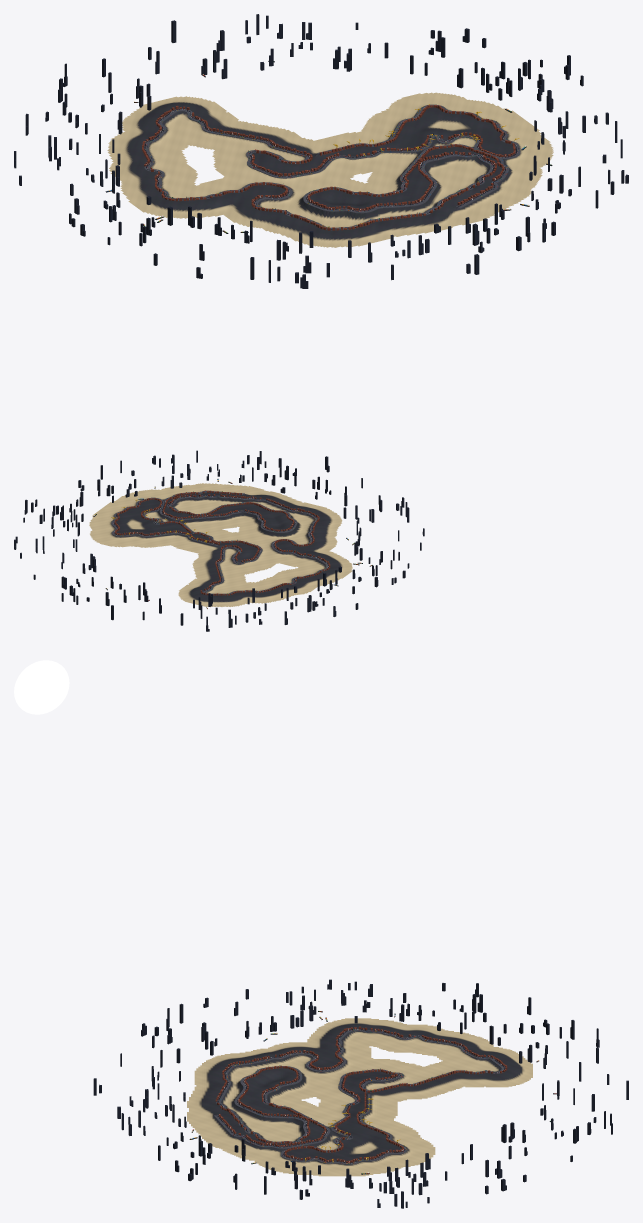
The model's file is docklands.glb.
3 views of the same model, one above another, from view 1: azimuth 30°, elevation 25°; view 2: azimuth 150°, elevation 25°; view 3: azimuth 270°, elevation 25° (orthographic). The views are drawn at different scales.
Visible parts, largest first — view 1: Skyline, Land_010, Land_009, Land_001, Land_008, Land_011, Land_013, Land_002, Land_014, Land_022, Land_005, Land_006 (+12 smaller); view 2: Skyline, Land_009, Land_001, Land_010, Land_008, Land_011, Land_013, Land_002, Land_019, Land_014, Land_006, Land_000 (+9 smaller); view 3: Skyline, Sun, Land_010, Land_008, Land_009, Land_001, Land_011, Land_013, Land_002, Land_014, Land_022, Land_019 (+8 smaller).
Boxes of the visible parts, x1,y1,x2,y2 form: Skyline: (14,14,628,288); Land_010: (109,150,197,198); Land_009: (107,96,190,154); Land_001: (364,92,486,131); Land_008: (178,97,272,150); Land_011: (128,178,262,218); Land_013: (227,206,356,247); Land_002: (455,102,553,155); Land_014: (345,204,457,246); Land_022: (448,175,537,225); Land_005: (285,150,392,185); Land_006: (212,147,293,183); Skyline: (14,450,424,631); Land_009: (180,582,284,607); Land_001: (89,523,164,547); Land_010: (256,567,339,598); Land_008: (178,565,246,597); Land_011: (280,547,352,579); Land_013: (298,508,342,549); Land_002: (89,491,153,524); Land_019: (238,507,282,539); Land_014: (246,491,326,518); Land_006: (227,544,276,574); Land_000: (154,528,224,553); Skyline: (93,979,628,1208); Sun: (14,660,69,714); Land_010: (363,1019,459,1056); Land_008: (412,1061,525,1094); Land_009: (437,1032,532,1081); Land_001: (363,1123,435,1171); Land_011: (307,1018,374,1061); Land_013: (196,1042,301,1076); Land_002: (274,1151,386,1176); Land_014: (187,1070,239,1112); Land_022: (187,1110,254,1153); Land_019: (251,1071,320,1106).
Size of what is drawn, in the model's own units: 6984 by 2908 by 6211.
